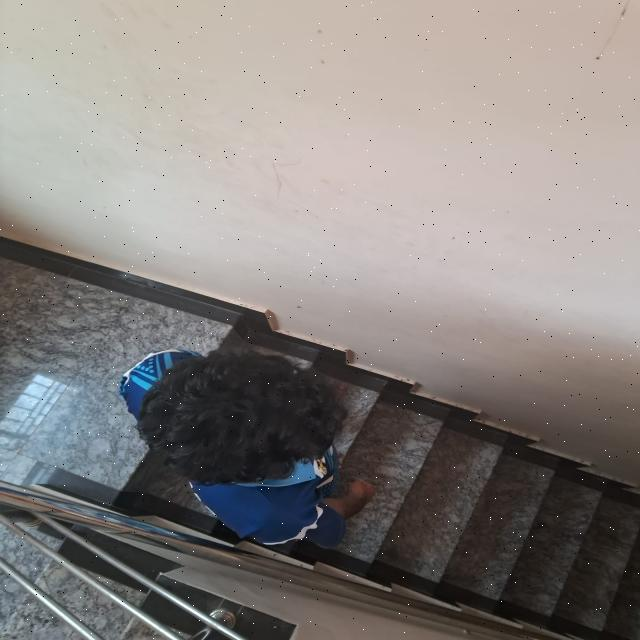humans: (99, 343, 403, 546)
